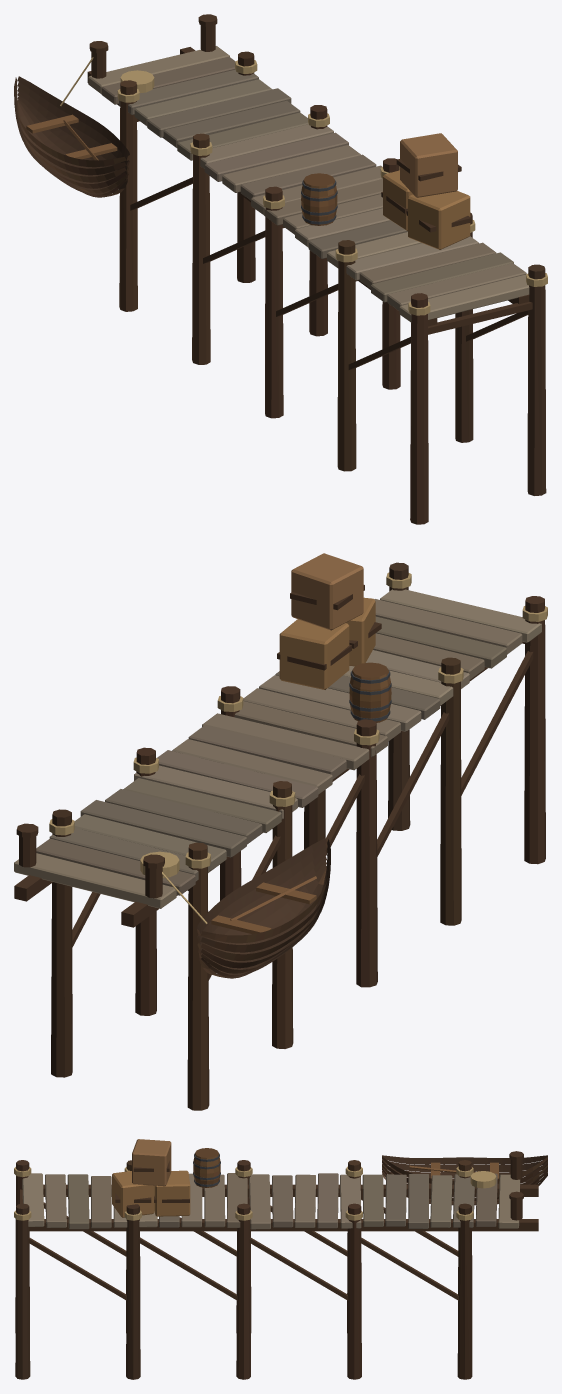
The model's file is Jetty.glb.
3 renders of one model, top to bottom at view 1: azimuth 30°, elevation 25°; view 2: azimuth 150°, elevation 25°; view 3: azimuth 270°, elevation 25°, orthographic. The views are drawn at different scales.
Parts seen in each view (by area): view 1: Mat_Wood_473223, Mat_Wood_816e59, Mat_Wood_634a36, Mat_Thatch_847562, Mat_Thatch_ab9368; view 2: Mat_Wood_473223, Mat_Wood_816e59, Mat_Wood_634a36, Mat_Thatch_847562, Mat_Thatch_ab9368, Mat_Metal_424448; view 3: Mat_Wood_473223, Mat_Wood_816e59, Mat_Wood_634a36, Mat_Thatch_847562, Mat_Thatch_ab9368, Mat_Metal_424448.
Boxes of the visible parts, x1,y1,x2,y2 form: Mat_Wood_473223: [14, 14, 546, 524]; Mat_Wood_816e59: [119, 69, 513, 302]; Mat_Wood_634a36: [16, 56, 407, 389]; Mat_Thatch_847562: [88, 46, 529, 322]; Mat_Thatch_ab9368: [60, 57, 547, 315]; Mat_Wood_473223: [14, 562, 545, 1077]; Mat_Wood_816e59: [49, 553, 506, 881]; Mat_Wood_634a36: [36, 662, 440, 1110]; Mat_Thatch_847562: [14, 589, 541, 908]; Mat_Thatch_ab9368: [49, 572, 547, 924]; Mat_Metal_424448: [349, 669, 391, 721]; Mat_Wood_473223: [15, 1151, 547, 1379]; Mat_Wood_816e59: [67, 1139, 474, 1229]; Mat_Wood_634a36: [159, 1148, 547, 1379]; Mat_Thatch_847562: [22, 1173, 520, 1229]; Mat_Thatch_ab9368: [14, 1166, 496, 1227]; Mat_Metal_424448: [193, 1153, 220, 1186].
Size of the model in its own units: 10.29 by 13.25 by 28.97.
1 material, 1 textured.
